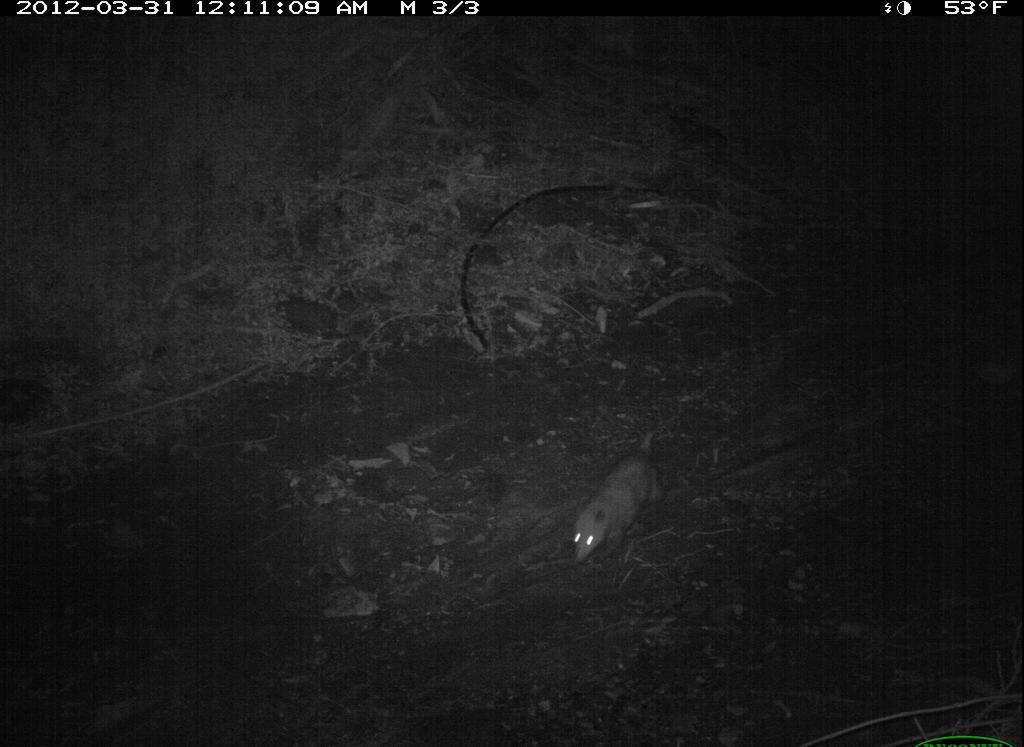opossum: (547, 424, 670, 573)
